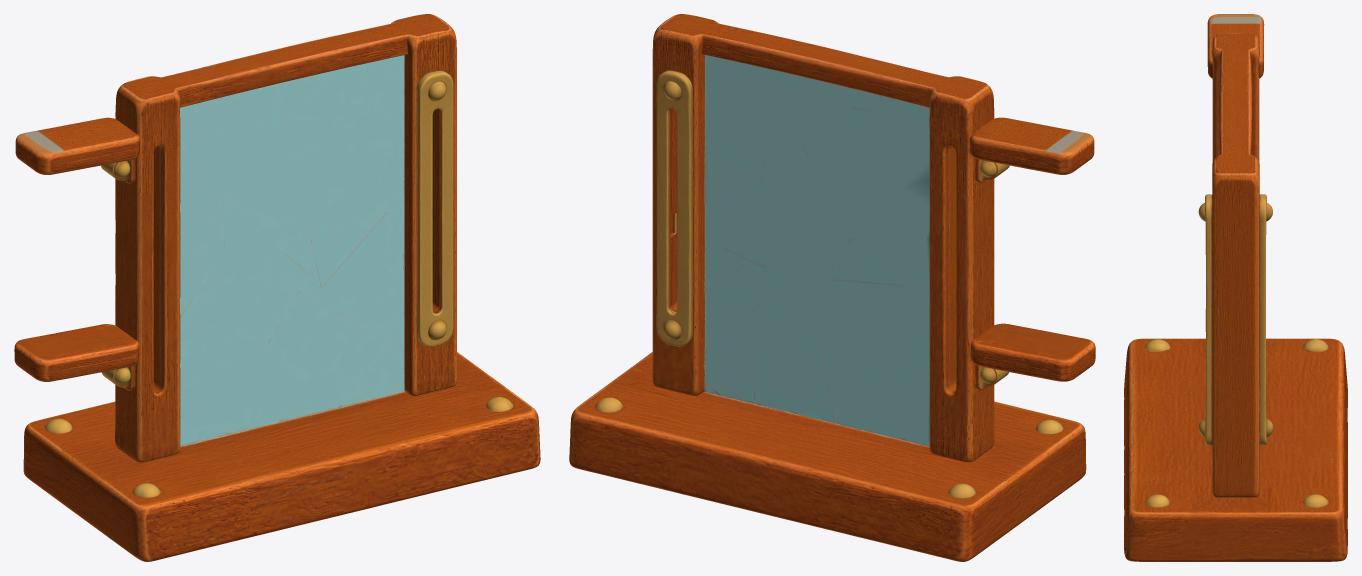
File: remote-frame.glb
3 renders of one model, left to right at view 1: azimuth 30°, elevation 25°; view 2: azimuth 150°, elevation 25°; view 3: azimuth 270°, elevation 25°, orthographic. The views are drawn at different scales.
Bounding box in the file's own units: 0.1614 × 0.14 × 0.0756.
1 material, 1 textured.
